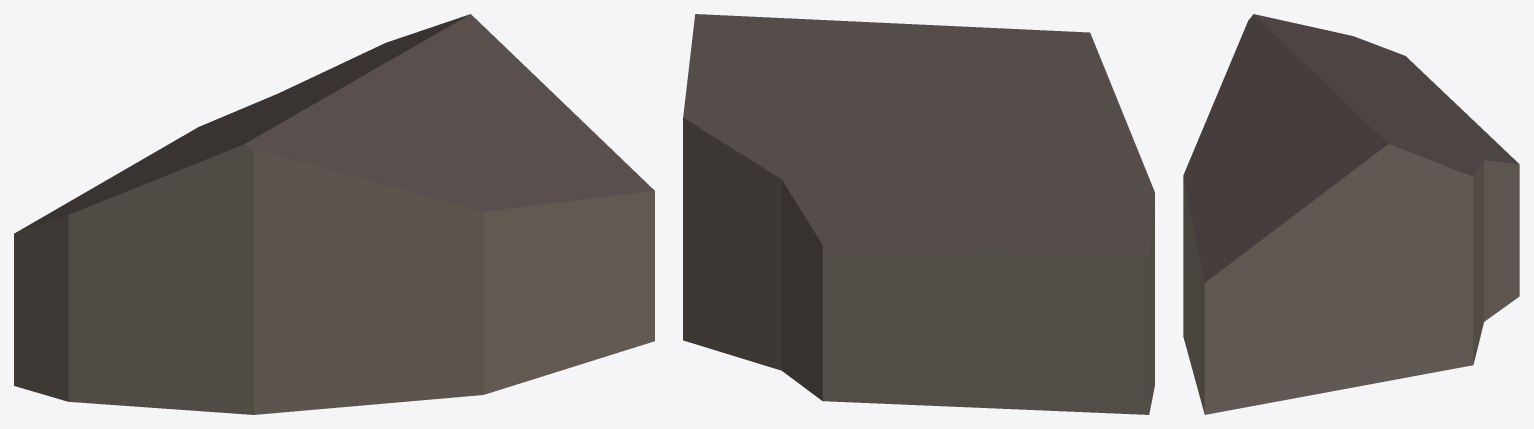
3 renders of one model, left to right at view 1: azimuth 30°, elevation 25°; view 2: azimuth 150°, elevation 25°; view 3: azimuth 270°, elevation 25°, orthographic. The views are drawn at different scales.
Parts seen in each view (by area): view 1: HP-w859082445; view 2: HP-w859082445; view 3: HP-w859082445.
Boxes of the visible parts, <box> form: HP-w859082445: <box>14,14,654,414</box>; HP-w859082445: <box>683,14,1154,414</box>; HP-w859082445: <box>1183,14,1519,414</box>.
Bounding box in the file's own units: 21.97 × 10.77 × 13.86.
